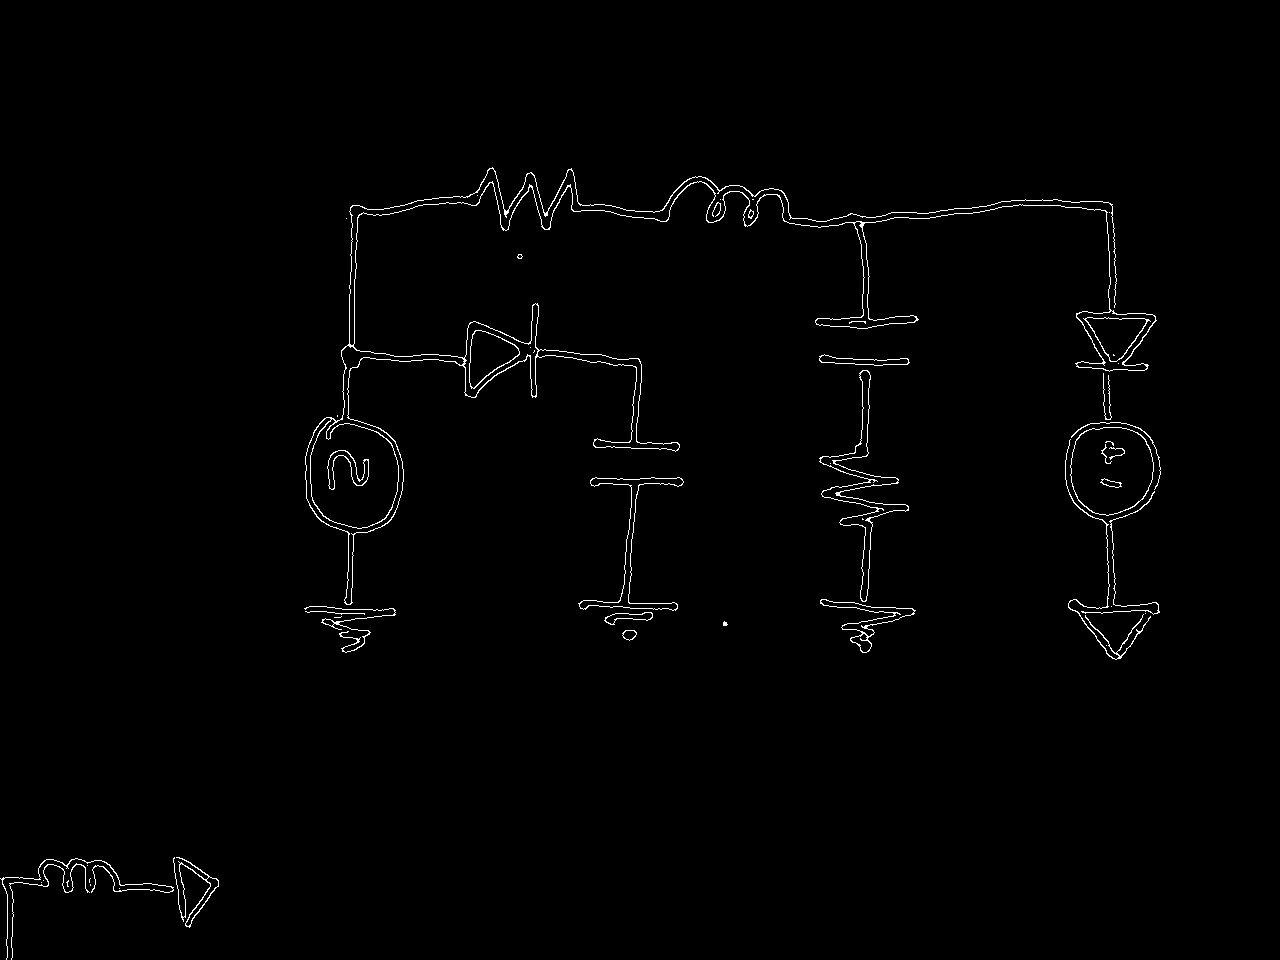capacitor: (810, 296, 918, 401), (581, 422, 690, 508)
diode: (439, 296, 573, 403), (1063, 291, 1168, 399)
ground0: (814, 578, 925, 694), (295, 587, 404, 697)
ground1: (571, 584, 685, 694)
ground2: (1052, 579, 1176, 719), (156, 848, 253, 935)
inductor: (638, 171, 815, 235), (21, 853, 142, 898)
resistor: (814, 422, 913, 556), (445, 162, 604, 237)
signal: (302, 403, 407, 548)
voltage: (1062, 416, 1163, 532)
